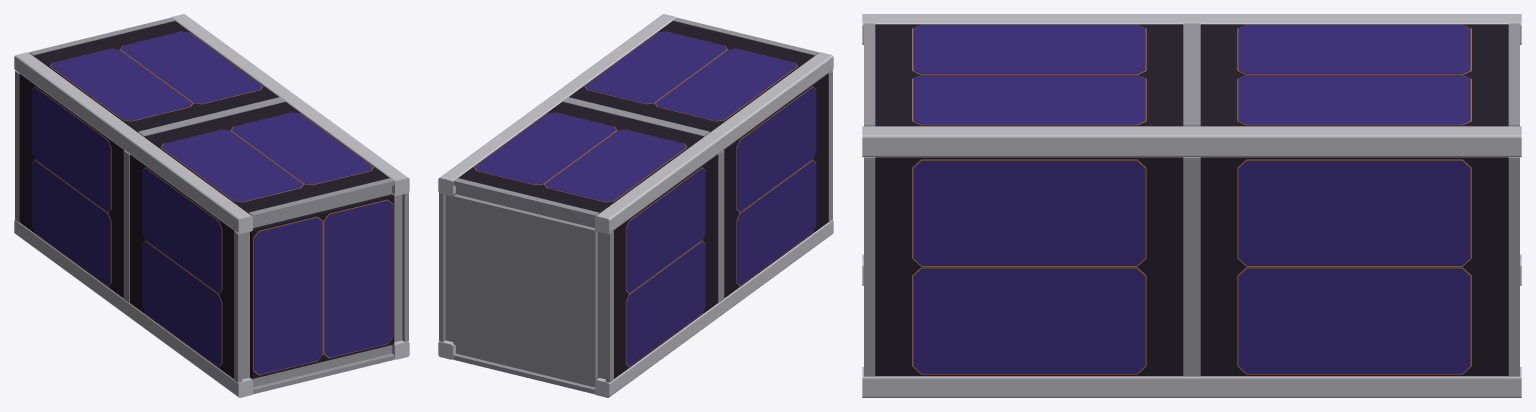
Rendered from CDS_2U_nasa_style.obj.
The picture shows the model from 3 angles, left to right: view 1: azimuth 30°, elevation 25°; view 2: azimuth 150°, elevation 25°; view 3: azimuth 270°, elevation 25°; orthographic projection. The views are drawn at different scales.
Parts seen in each view (by area): view 1: solar_panel_pZ_cells, solar_panel_mX_z2_cells, solar_panel_mX_z1_cells, solar_panel_pY_z2_cells, solar_panel_pY_z1_cells, rail_mX_pY, structure_body, solar_panel_mX_z1_substrate, solar_panel_mX_z2_substrate, solar_panel_pY_z2_substrate, solar_panel_pY_z1_substrate, rail_mX_mY (+11 smaller); view 2: structure_endplate_mZ, solar_panel_mX_z1_cells, solar_panel_mX_z2_cells, solar_panel_pY_z1_cells, solar_panel_pY_z2_cells, rail_mX_pY, structure_body, solar_panel_mX_z2_substrate, solar_panel_mX_z1_substrate, solar_panel_pY_z1_substrate, solar_panel_pY_z2_substrate, rail_mX_mY (+9 smaller); view 3: solar_panel_pX_z1_cells, solar_panel_pX_z2_cells, solar_panel_pY_z1_cells, solar_panel_pY_z2_cells, rail_pX_pY, solar_panel_pX_z1_substrate, solar_panel_pX_z2_substrate, rail_pX_mY, structure_band_pX, solar_panel_pY_z1_substrate, solar_panel_pY_z2_substrate, rail_mX_pY (+5 smaller).
Boxes of the visible parts, bbox=[...] form: solar_panel_pZ_cells: bbox=[254, 200, 392, 374]; solar_panel_mX_z2_cells: bbox=[142, 168, 221, 366]; solar_panel_mX_z1_cells: bbox=[31, 87, 110, 285]; solar_panel_pY_z2_cells: bbox=[161, 112, 372, 201]; solar_panel_pY_z1_cells: bbox=[51, 31, 262, 120]; rail_mX_pY: bbox=[14, 52, 252, 234]; structure_body: bbox=[242, 186, 402, 387]; solar_panel_mX_z1_substrate: bbox=[19, 73, 124, 298]; solar_panel_mX_z2_substrate: bbox=[130, 154, 234, 378]; solar_panel_pY_z2_substrate: bbox=[144, 102, 389, 213]; solar_panel_pY_z1_substrate: bbox=[33, 21, 278, 132]; rail_mX_mY: bbox=[14, 220, 252, 397]; structure_endplate_mZ: bbox=[453, 194, 597, 379]; solar_panel_mX_z1_cells: bbox=[626, 168, 705, 366]; solar_panel_mX_z2_cells: bbox=[737, 87, 816, 285]; solar_panel_pY_z1_cells: bbox=[475, 112, 686, 201]; solar_panel_pY_z2_cells: bbox=[585, 31, 796, 120]; rail_mX_pY: bbox=[595, 52, 833, 234]; structure_body: bbox=[445, 186, 605, 387]; solar_panel_mX_z2_substrate: bbox=[723, 73, 828, 298]; solar_panel_mX_z1_substrate: bbox=[613, 154, 717, 378]; solar_panel_pY_z1_substrate: bbox=[458, 102, 703, 213]; solar_panel_pY_z2_substrate: bbox=[569, 21, 814, 132]; rail_mX_mY: bbox=[595, 220, 833, 397]; solar_panel_pX_z1_cells: bbox=[1238, 160, 1470, 373]; solar_panel_pX_z2_cells: bbox=[913, 160, 1145, 373]; solar_panel_pY_z1_cells: bbox=[1238, 24, 1470, 124]; solar_panel_pY_z2_cells: bbox=[913, 24, 1145, 124]; rail_pX_pY: bbox=[862, 126, 1521, 157]; solar_panel_pX_z1_substrate: bbox=[1200, 157, 1508, 376]; solar_panel_pX_z2_substrate: bbox=[875, 157, 1183, 376]; rail_pX_mY: bbox=[862, 367, 1521, 397]; structure_band_pX: bbox=[864, 157, 1519, 376]; solar_panel_pY_z1_substrate: bbox=[1200, 24, 1508, 126]; solar_panel_pY_z2_substrate: bbox=[875, 24, 1183, 126]; rail_mX_pY: bbox=[862, 14, 1521, 44].
Size of the model in its own units: 0.1 by 0.1 by 0.227.
